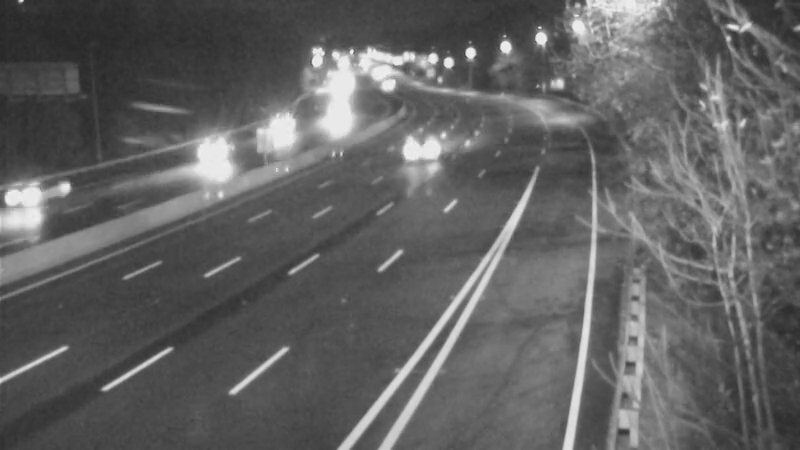vehicle: (168, 119, 248, 199), (1, 155, 73, 235), (392, 122, 442, 172), (265, 99, 315, 149), (314, 94, 364, 144)
